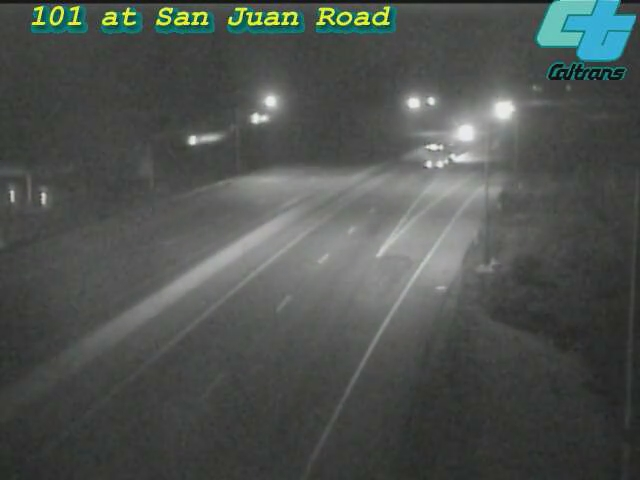vehicle: (439, 106, 489, 156), (478, 86, 528, 136), (412, 130, 462, 180)
